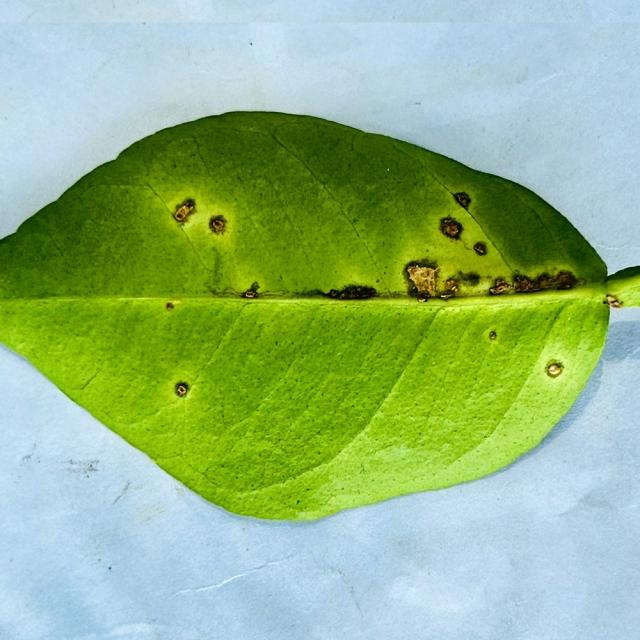Anthracnose: (176, 197, 245, 263), (439, 198, 487, 261), (508, 271, 577, 294), (327, 284, 379, 300), (415, 288, 456, 303), (170, 381, 196, 403), (174, 199, 195, 223), (545, 359, 565, 378), (602, 294, 623, 309), (490, 281, 510, 295), (454, 192, 470, 207), (165, 300, 181, 311), (446, 224, 458, 235), (488, 329, 498, 340)
Lemon: (0, 111, 639, 525)
